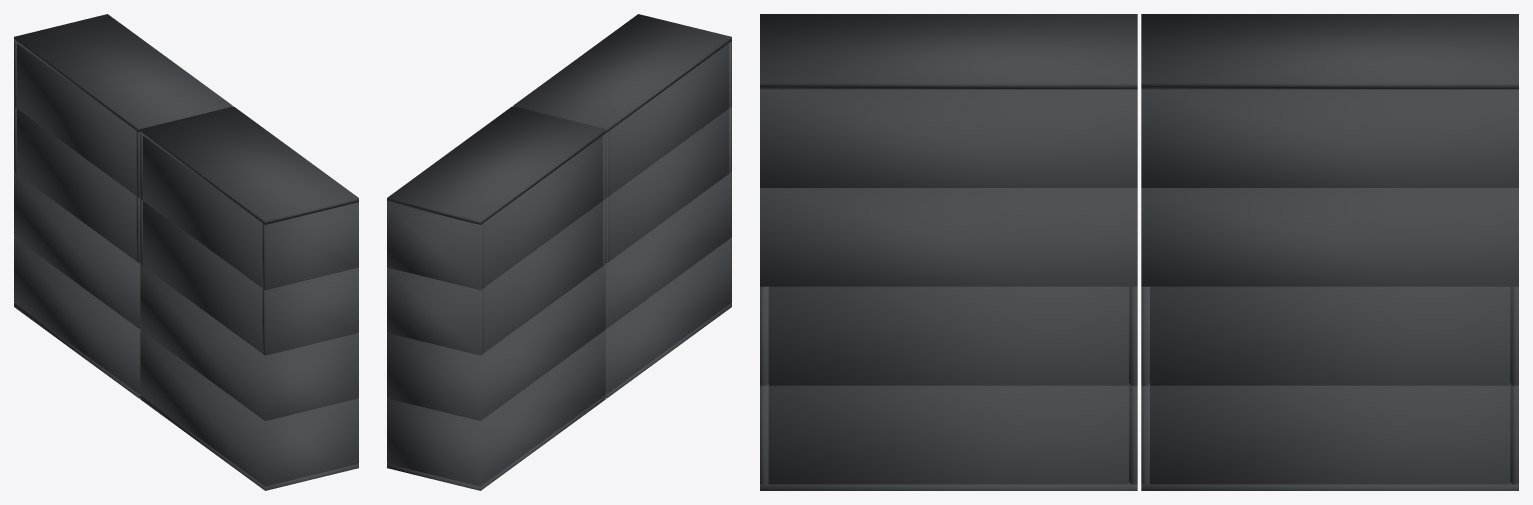
File: FileCabinet .obj
The picture shows the model from 3 angles, left to right: view 1: azimuth 30°, elevation 25°; view 2: azimuth 150°, elevation 25°; view 3: azimuth 270°, elevation 25°; orthographic projection. The views are drawn at different scales.
Parts seen in each view (by area): view 1: FileCabinet .obj; view 2: FileCabinet .obj; view 3: FileCabinet .obj.
Boxes of the visible parts, x1,y1,x2,y2 form: FileCabinet .obj: (14,14,358,490); FileCabinet .obj: (387,14,731,490); FileCabinet .obj: (760,14,1518,490).
Bounding box in the file's own units: 0.4958 × 1.37 × 2.3.
